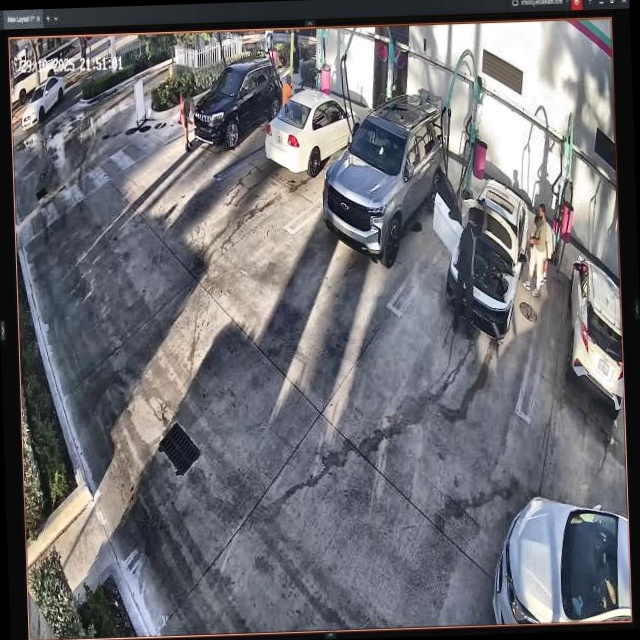Car: (321, 94, 452, 268), (433, 164, 534, 338), (263, 89, 362, 179), (191, 61, 285, 146)
